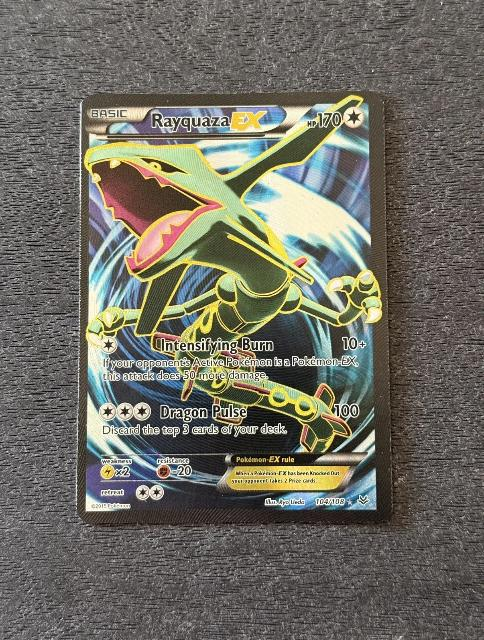Name: (147, 109, 277, 136)
